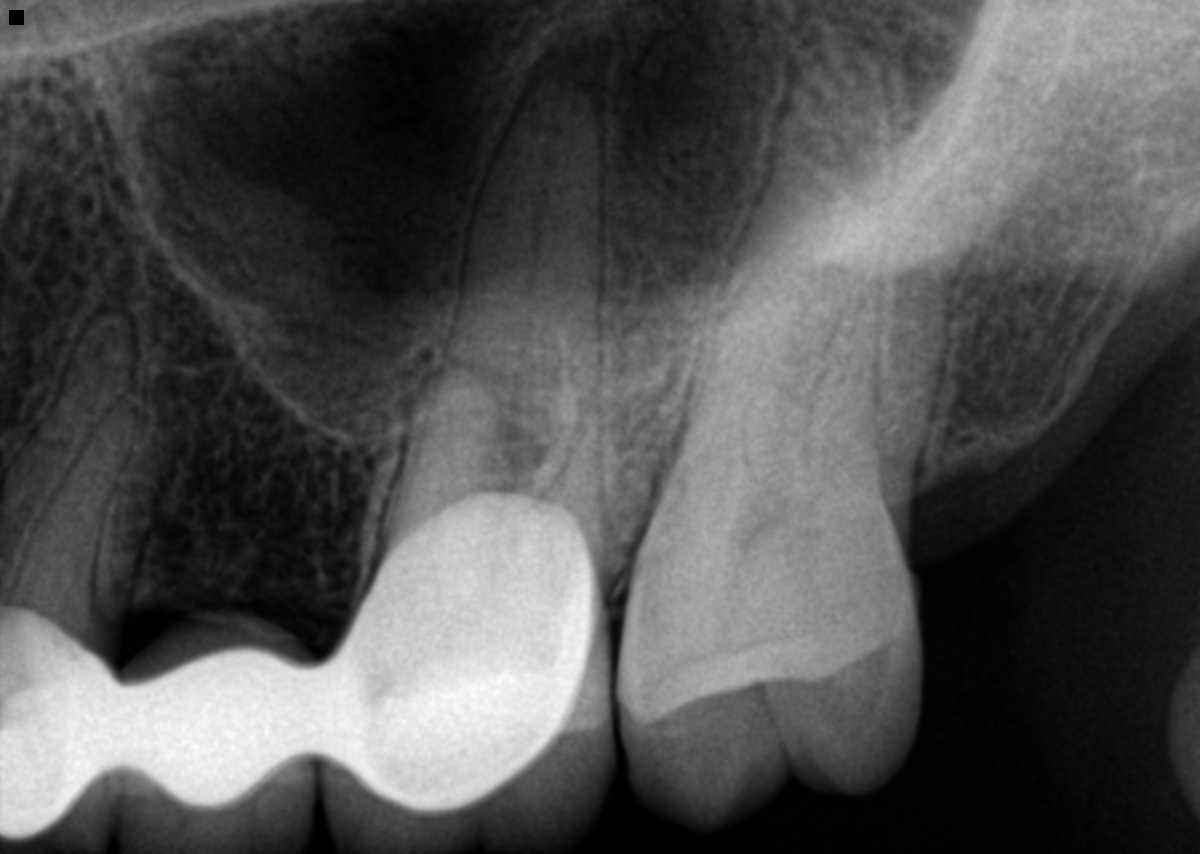Apical Lesion: (522, 24, 617, 112)
Distal Root: (818, 174, 989, 463), (542, 313, 689, 573)
Main Root: (1, 394, 143, 643)
Mesial Canal: (745, 403, 761, 469)
Mesial Root: (671, 268, 807, 502), (377, 359, 508, 561)
Palatal Root: (393, 79, 609, 602), (676, 20, 890, 493), (515, 85, 560, 373)
